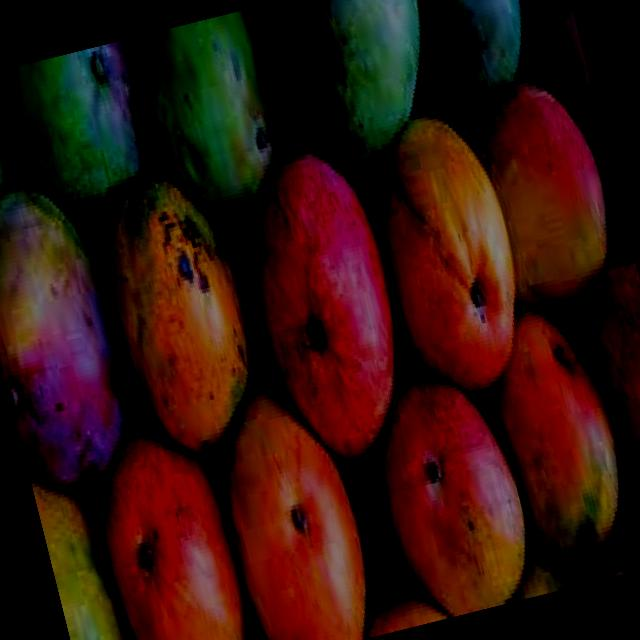Mango: (224, 137, 429, 474), (358, 114, 542, 410), (461, 289, 640, 582), (95, 179, 278, 464), (0, 171, 157, 503), (356, 360, 549, 625), (208, 391, 386, 640), (79, 413, 268, 640), (125, 7, 302, 241), (463, 72, 627, 316), (255, 0, 451, 185), (1, 44, 172, 240), (31, 468, 158, 640), (575, 262, 640, 545), (402, 0, 546, 108), (500, 0, 601, 147), (0, 70, 32, 223)
